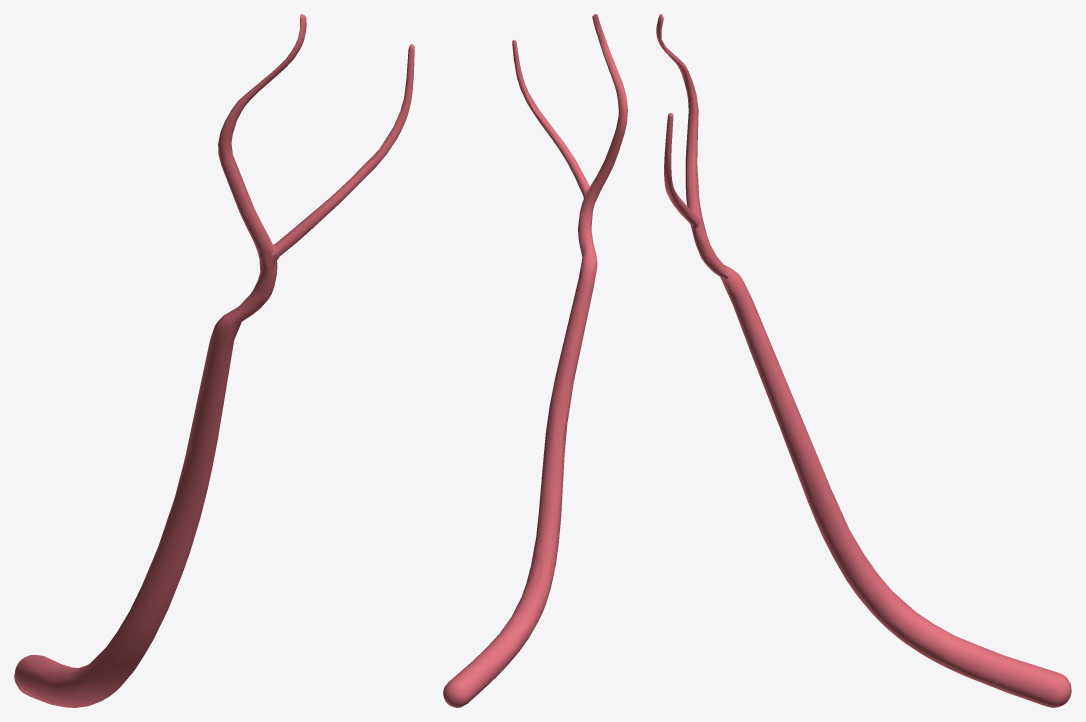
Rendered from fma44340_fj2178.glb.
3 renders of one model, left to right at view 1: azimuth 30°, elevation 25°; view 2: azimuth 150°, elevation 25°; view 3: azimuth 270°, elevation 25°, orthographic. The views are drawn at different scales.
Parts seen in each view (by area): view 1: FMA44340_FJ2178; view 2: FMA44340_FJ2178; view 3: FMA44340_FJ2178.
Boxes of the visible parts, x1,y1,x2,y2 form: FMA44340_FJ2178: (14,14,414,707); FMA44340_FJ2178: (443,14,627,707); FMA44340_FJ2178: (656,14,1071,707).
Bounding box in the file's own units: 0.0294 × 0.1281 × 0.0685.
